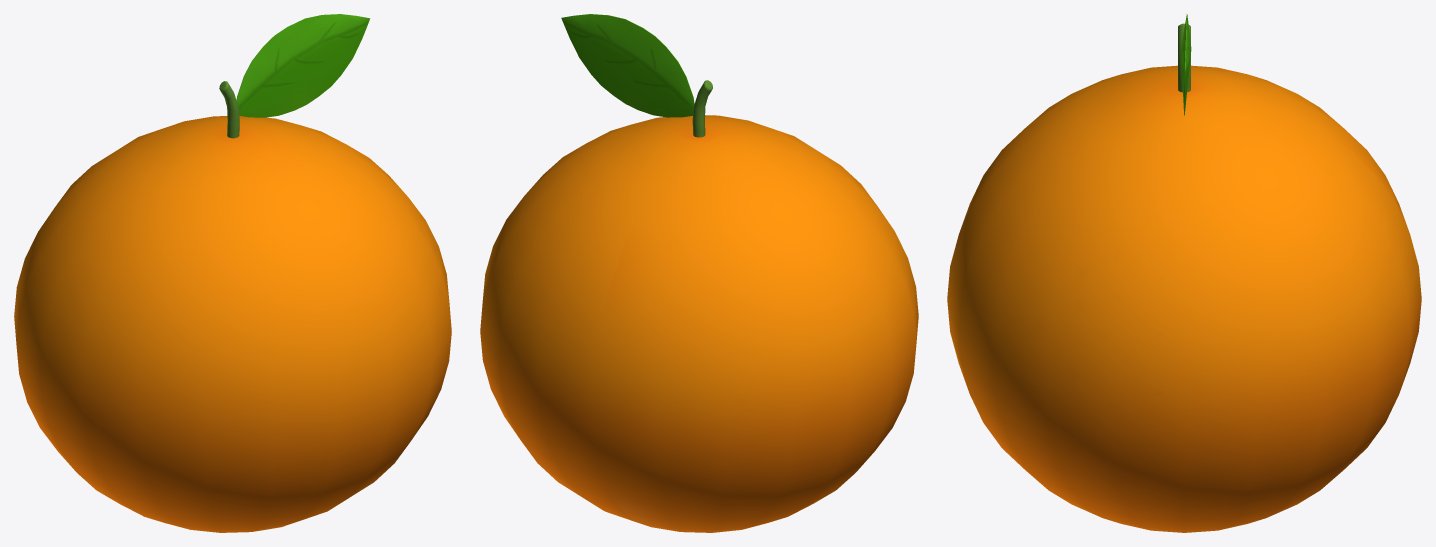
The model's file is Orange.glb.
3 renders of one model, left to right at view 1: azimuth 30°, elevation 25°; view 2: azimuth 150°, elevation 25°; view 3: azimuth 270°, elevation 25°, orthographic. The views are drawn at different scales.
Parts seen in each view (by area): view 1: Orange; view 2: Orange; view 3: Orange.
Boxes of the visible parts, bbox=[...] form: Orange: bbox=[14, 14, 451, 532]; Orange: bbox=[480, 14, 918, 532]; Orange: bbox=[947, 14, 1421, 532].
Size of the model in its own units: 0.1666 by 0.1959 by 0.1595.
1 material, 1 textured.
